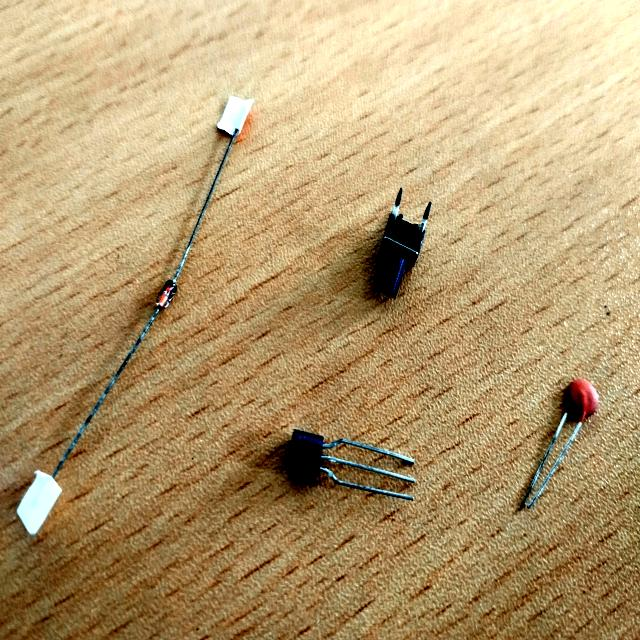capacitor: (519, 378, 600, 508)
